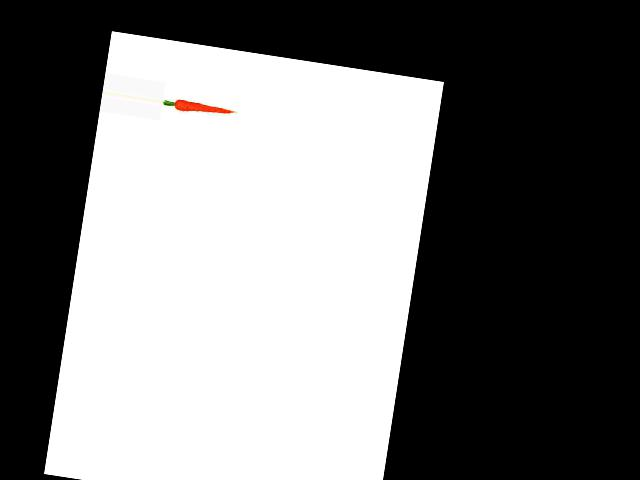carrot: (172, 95, 239, 122)
